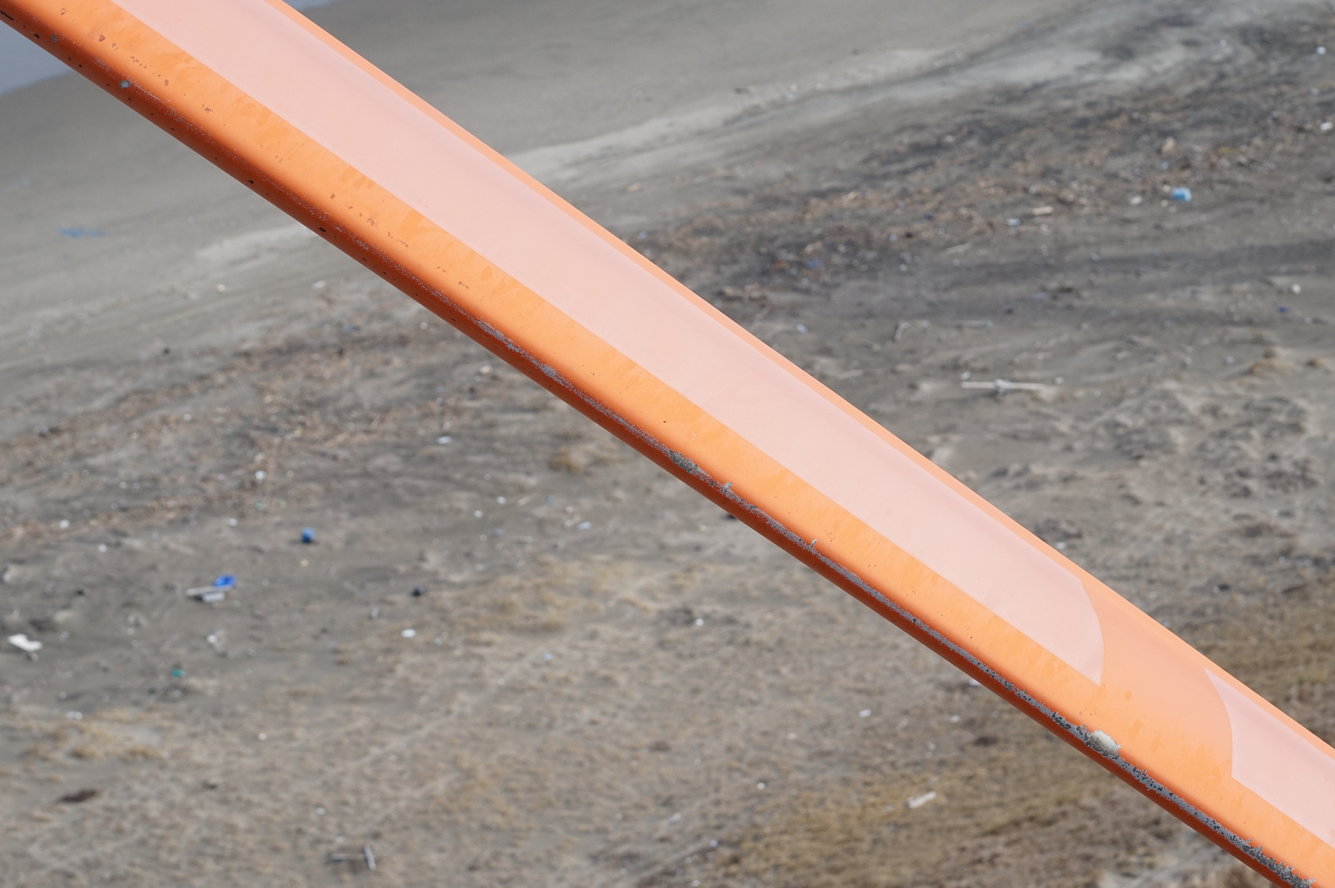Damage: (1066, 712, 1250, 853), (969, 656, 1069, 723), (1249, 844, 1313, 887), (665, 450, 699, 477)
